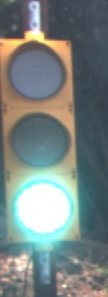Green: (3, 28, 83, 261)
